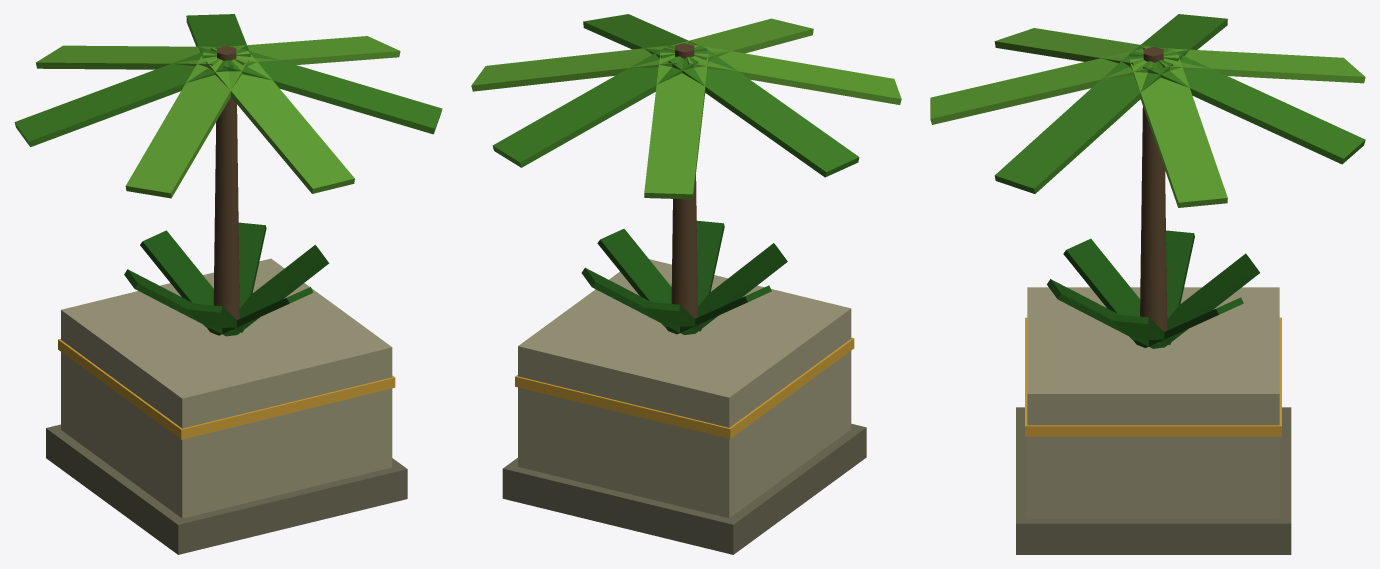
Rendered from jt_planter.glb.
3 renders of one model, left to right at view 1: azimuth 30°, elevation 25°; view 2: azimuth 150°, elevation 25°; view 3: azimuth 270°, elevation 25°, orthographic. The views are drawn at different scales.
Parts seen in each view (by area): view 1: jt_planter; view 2: jt_planter; view 3: jt_planter.
Part boxes in pixels (x1=…): jt_planter: x1=14, y1=14, x2=442, y2=554; jt_planter: x1=471, y1=14, x2=901, y2=554; jt_planter: x1=930, y1=14, x2=1365, y2=554.
Size of the model in its own units: 1.95 by 2.14 by 1.9.
